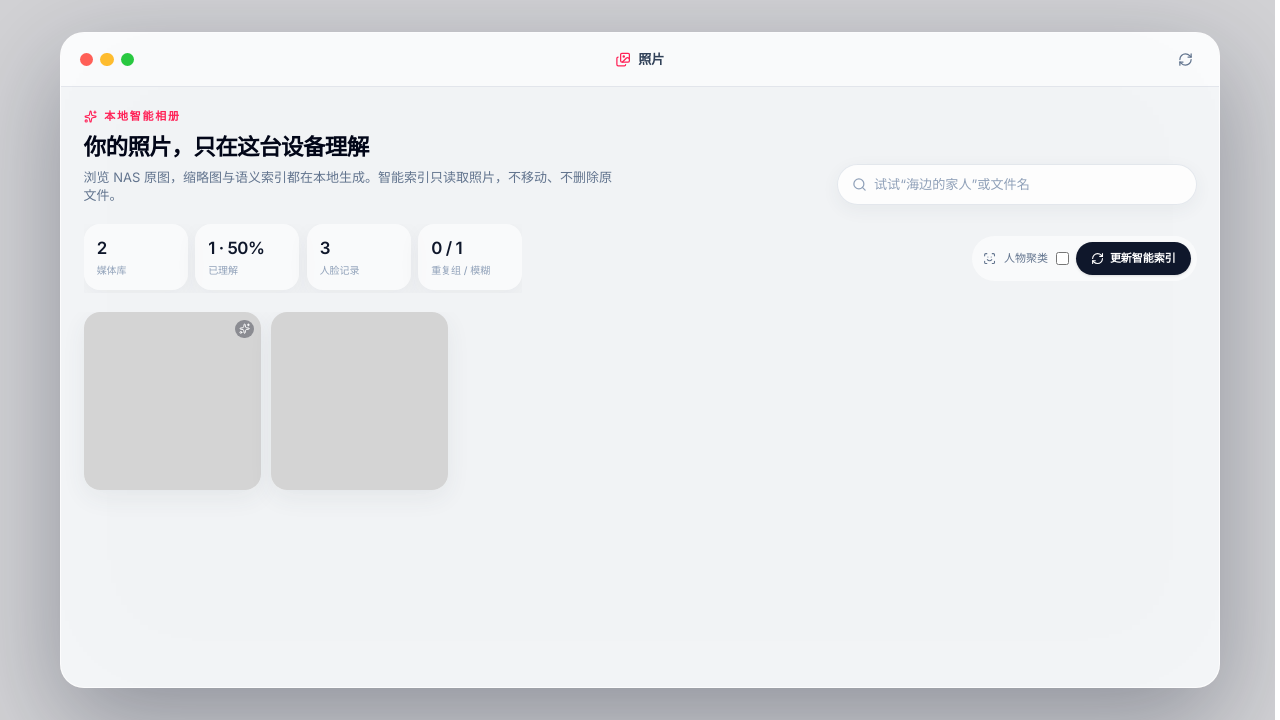
Test case: PhotosPanel › uses semantic search and clearly labels the local result mode
Type "海边的家人" into the field named "搜索照片" at coordinates (1028, 184), box 874,175 -> 1182,194
Then press Enter
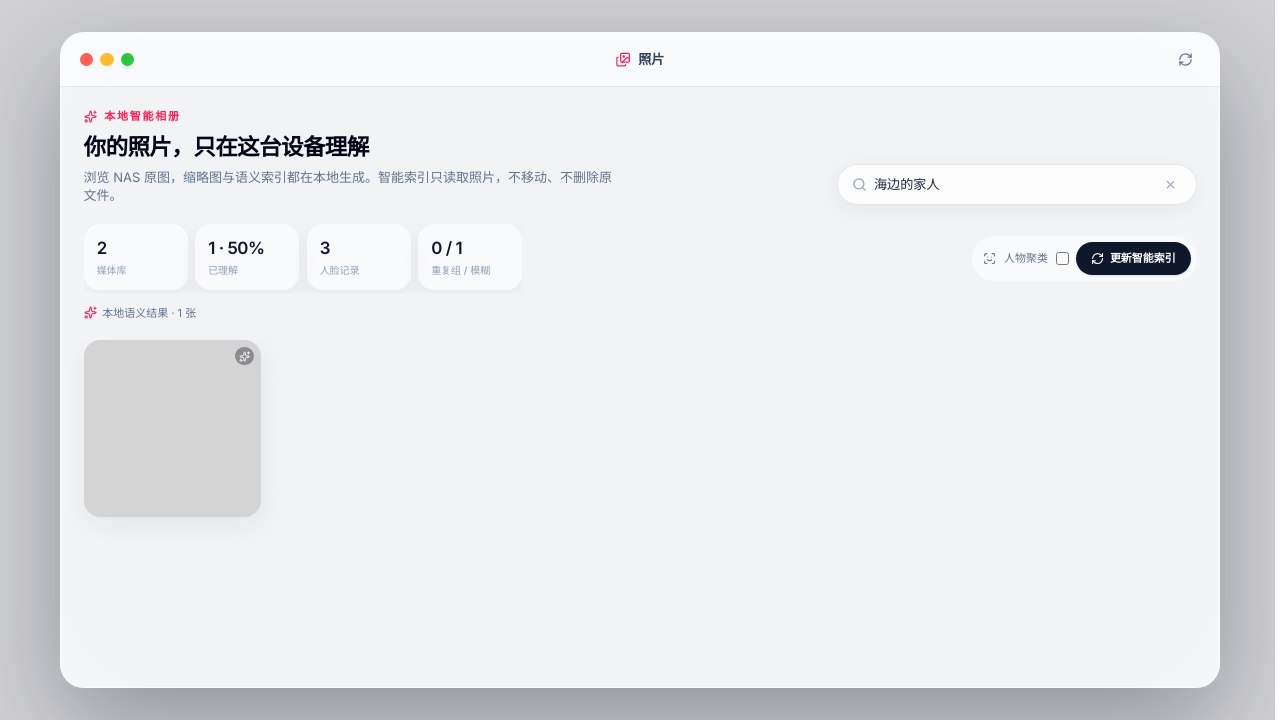
Check: the text "本地语义结果 · 1 张" is shown, box 84,306 -> 196,320
